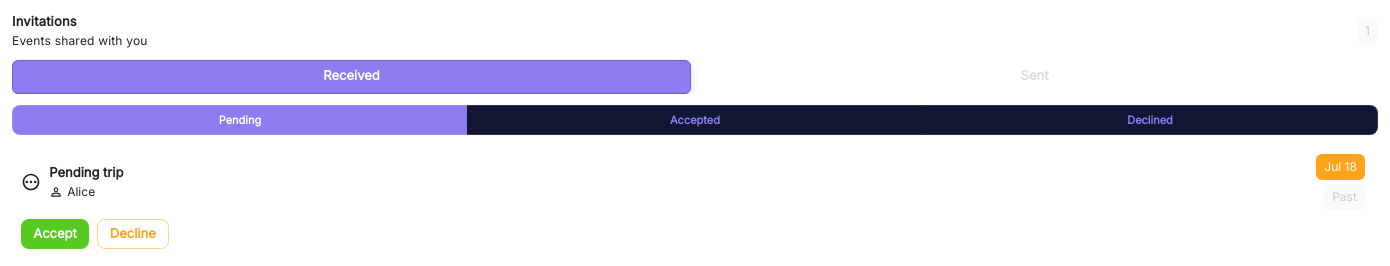
InvitationPanel - Received tab status filter › WhenOnlyPendingInvitationsExist_SwitchingToDeclinedKeepsTheDeclinedTabSelected
This screenshot has width=1390, height=266.
Click the button "Declined". click: x=1150, y=120
box: [922,105,1378,135]
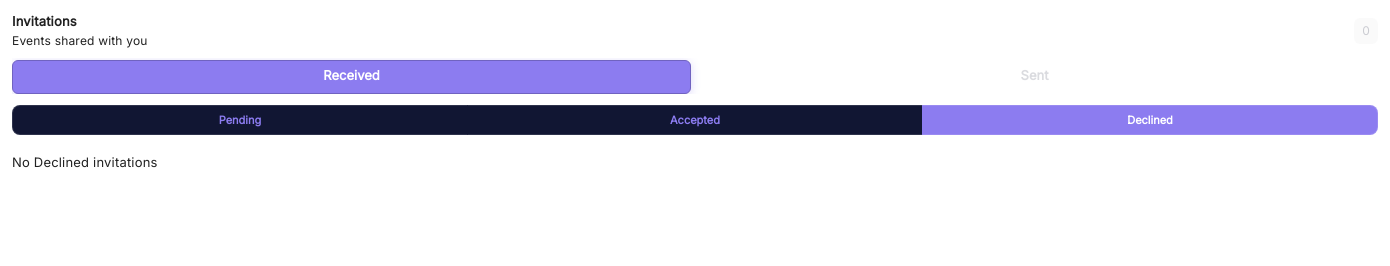
Now the text "No Declined invitations" is shown, box [12,154,158,170]
Now the button "Pending trip" is gone
